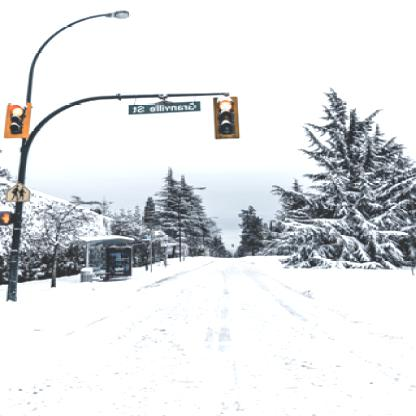trafficlight: (4, 100, 35, 140), (216, 95, 240, 137)
